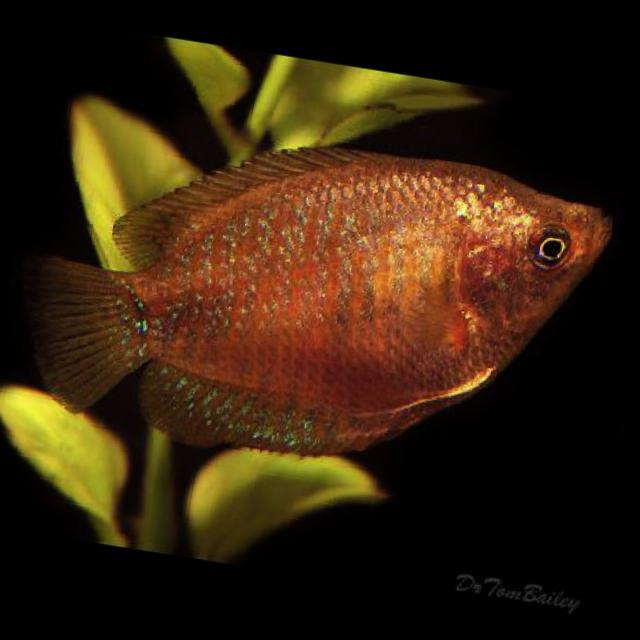Gourami: (2, 90, 620, 500)
